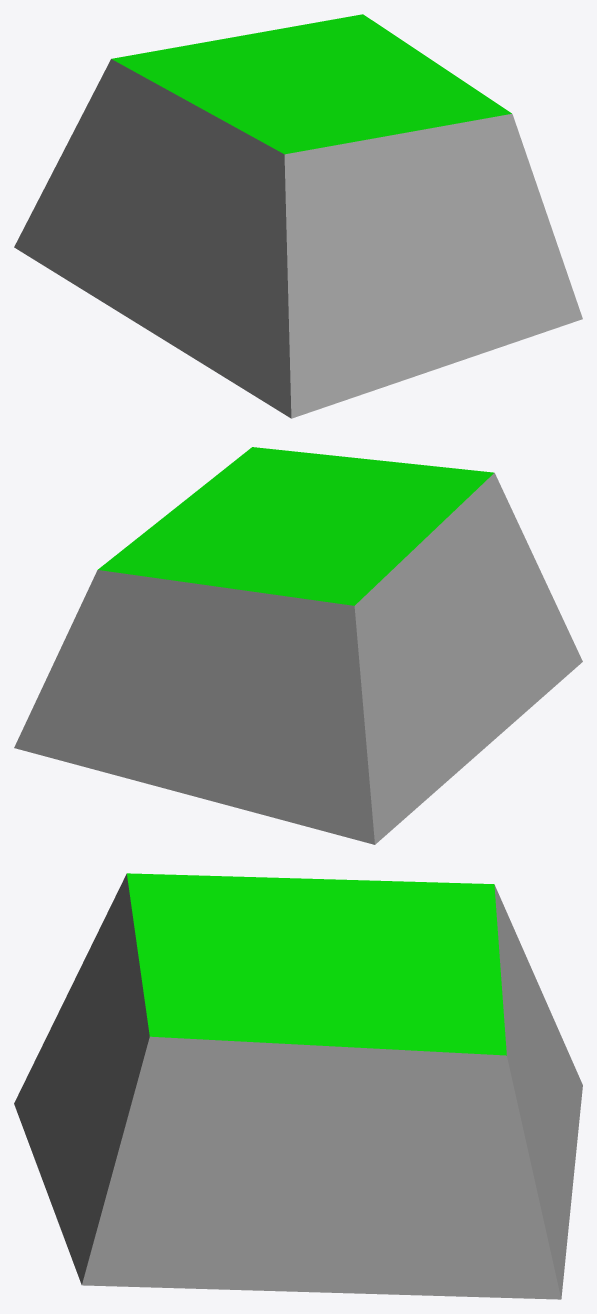
The model's file is rock_gen_mini_D.fbx.
3 views of the same model, one above another, from view 1: azimuth 30°, elevation 25°; view 2: azimuth 150°, elevation 25°; view 3: azimuth 270°, elevation 25° (orthographic). The views are drawn at different scales.
Parts seen in each view (by area): view 1: rock_gen_mini_D; view 2: rock_gen_mini_D; view 3: rock_gen_mini_D.
Boxes of the visible parts, x1,y1,x2,y2 form: rock_gen_mini_D: [14, 14, 582, 418]; rock_gen_mini_D: [14, 447, 582, 844]; rock_gen_mini_D: [14, 873, 582, 1299].
Bounding box in the file's own units: 6.04 × 3.34 × 6.78.
